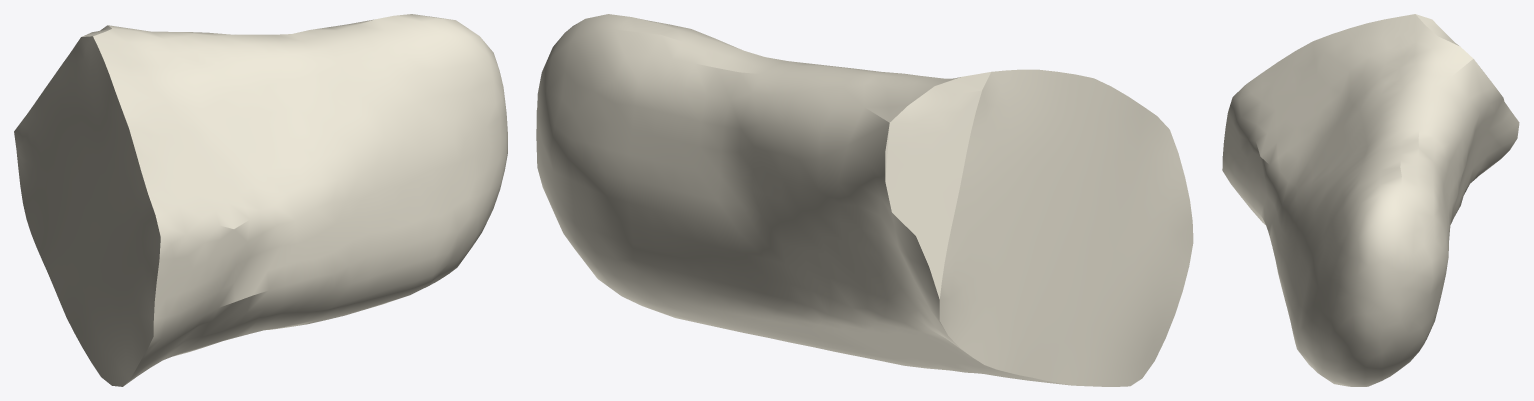
File: fma16185_mm2367.glb
3 renders of one model, left to right at view 1: azimuth 30°, elevation 25°; view 2: azimuth 150°, elevation 25°; view 3: azimuth 270°, elevation 25°, orthographic. The views are drawn at different scales.
Visible parts, largest first — view 1: FMA16185_MM2367; view 2: FMA16185_MM2367; view 3: FMA16185_MM2367.
Boxes of the visible parts, left/top/right/bottom form: FMA16185_MM2367: left=14, top=14, right=507, bottom=386; FMA16185_MM2367: left=536, top=14, right=1193, bottom=386; FMA16185_MM2367: left=1222, top=14, right=1519, bottom=386.
Size of the model in its own units: 0.0143 by 0.00912 by 0.00973.
